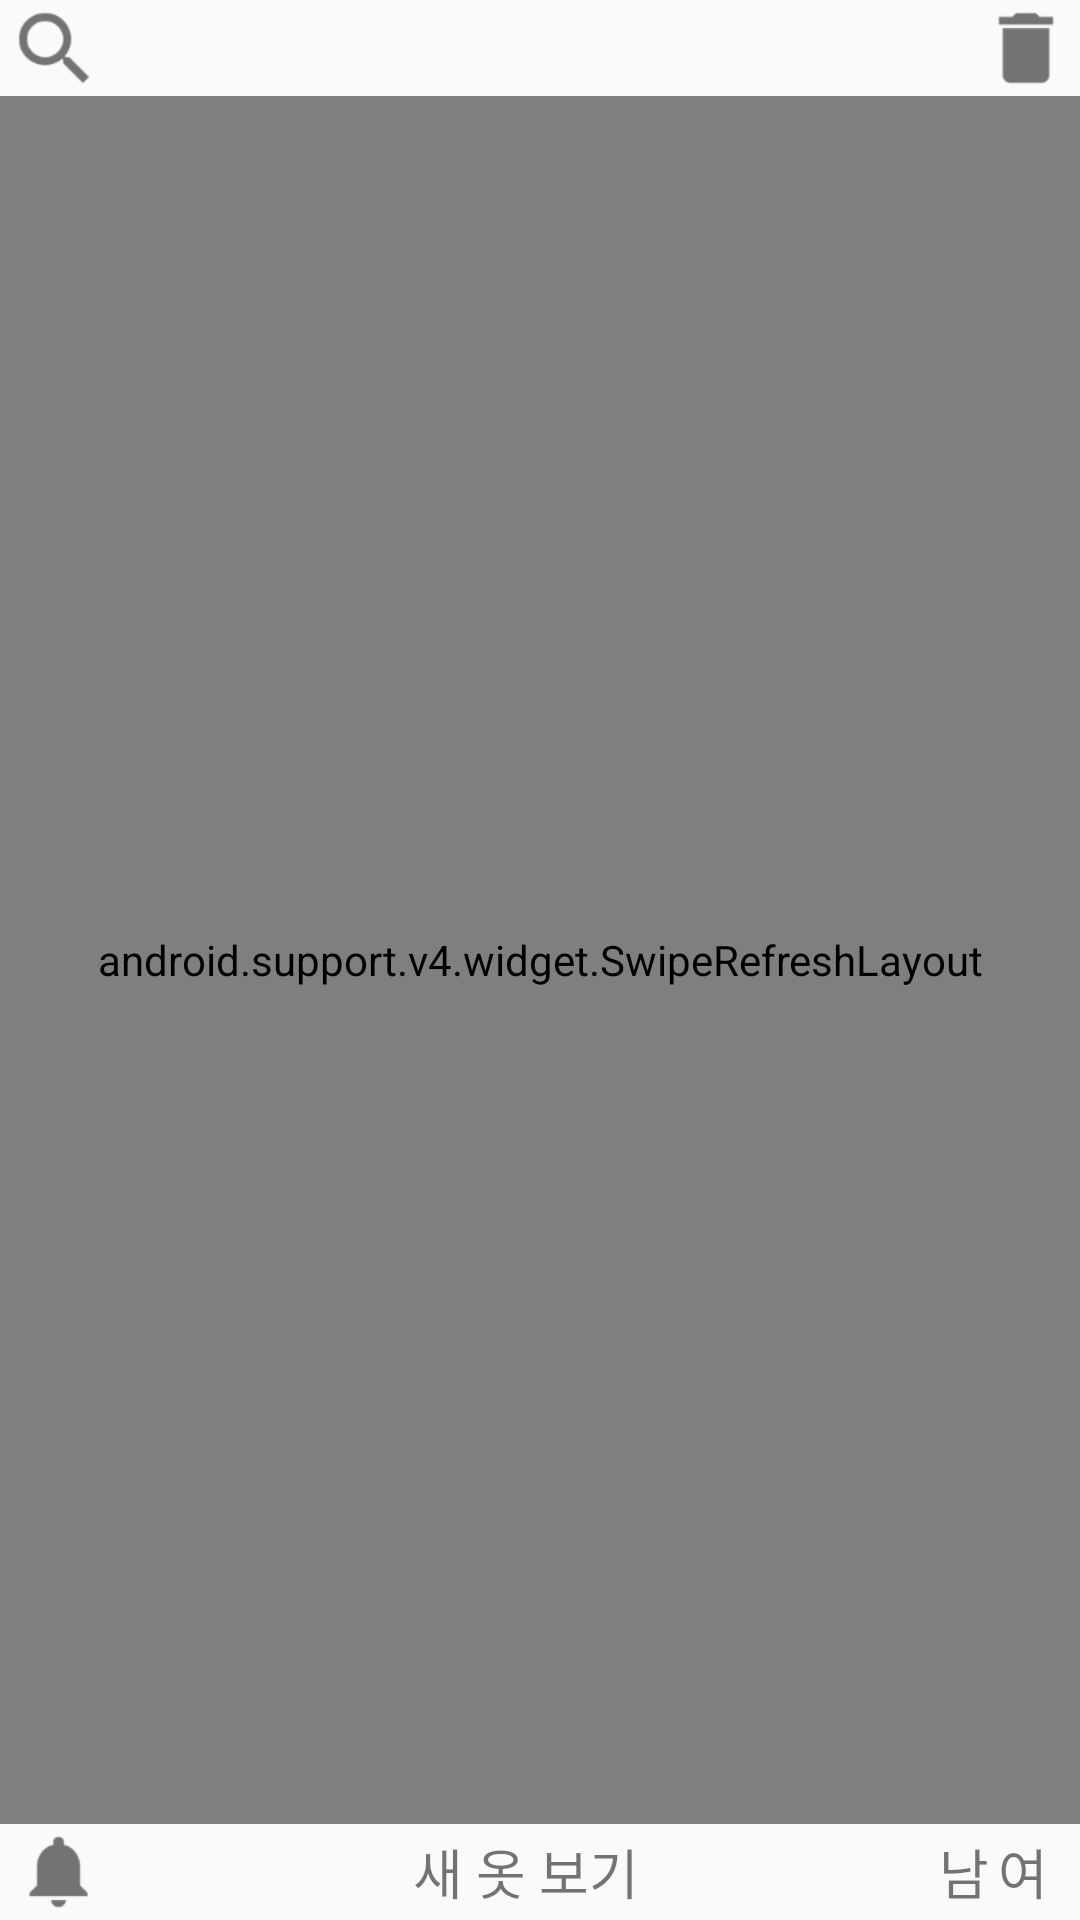

Locate icon controls on the screen. Image size 1080×1920, boxes as BBox(x1, y1, x2, y2).
delete: BBox(998, 13, 1054, 83)
notification: BBox(29, 1836, 88, 1908)
search: BBox(19, 13, 89, 83)
